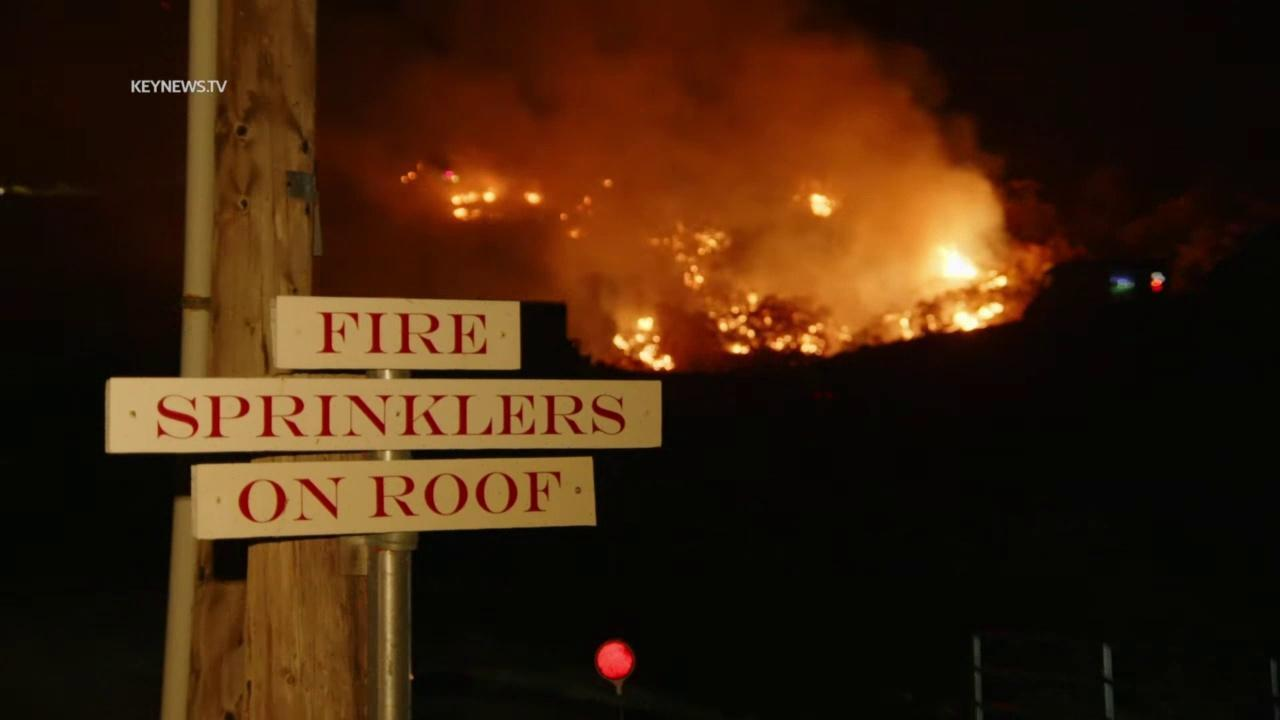fire: (896, 246, 1011, 342), (709, 291, 828, 357), (645, 226, 732, 290), (611, 315, 678, 370), (445, 185, 499, 223), (806, 192, 836, 219), (524, 175, 543, 206), (563, 225, 591, 241)
smoke: (312, 0, 1008, 369)
